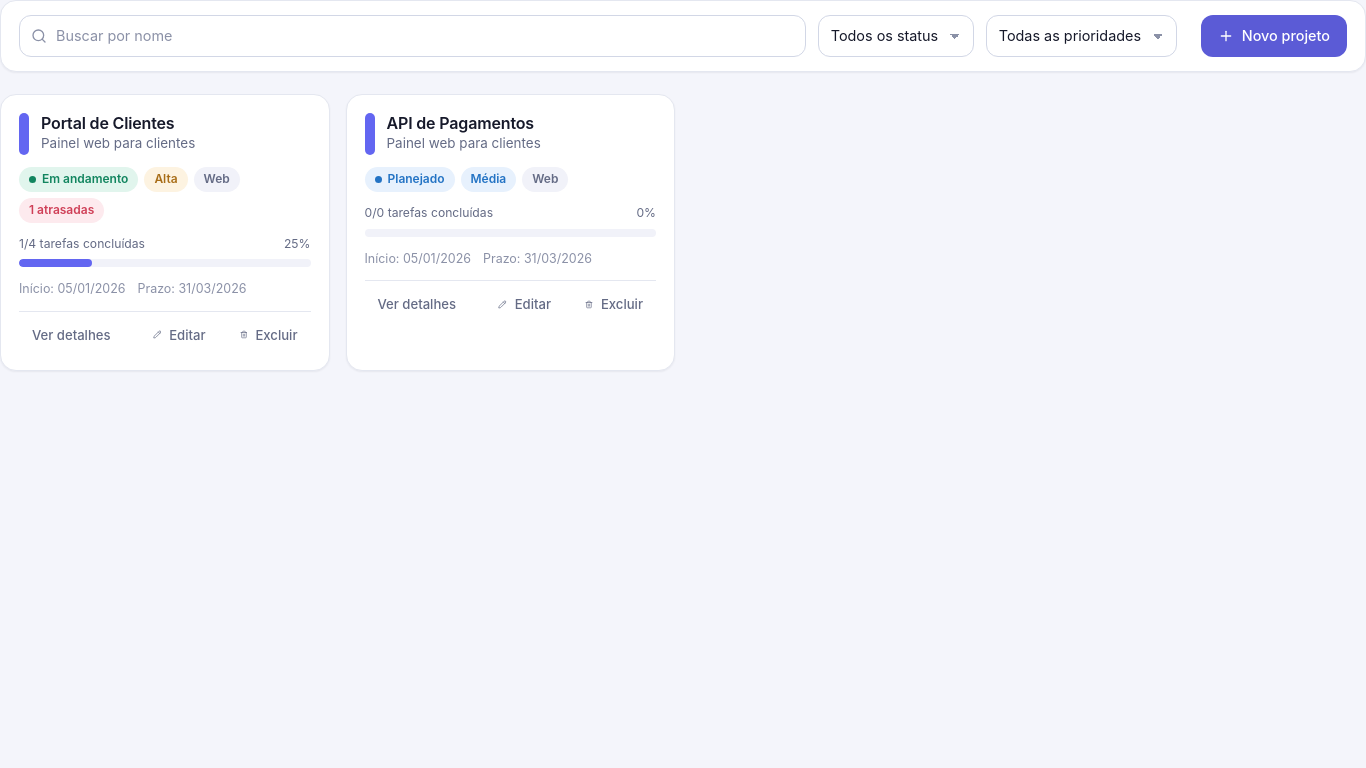
Scenario: ProjectsPage › bloqueia o envio quando o nome está vazio
This screenshot has width=1366, height=768.
Check: the heading "Portal de Clientes" is shown, box [41, 113, 174, 133]
Click the button "Novo projeto".
click(1274, 36)  # box [1201, 15, 1347, 57]
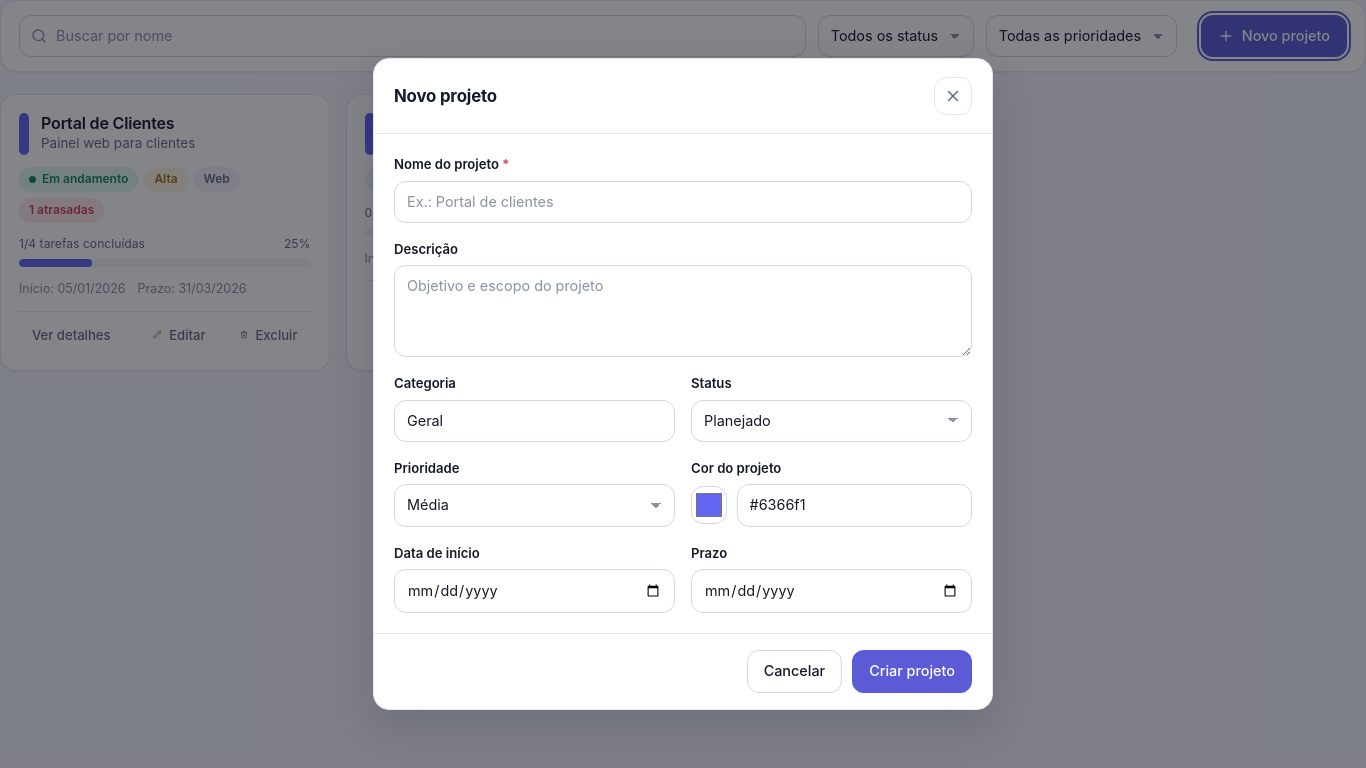
Click the button "Criar projeto".
click(912, 671)  # box [852, 650, 972, 693]
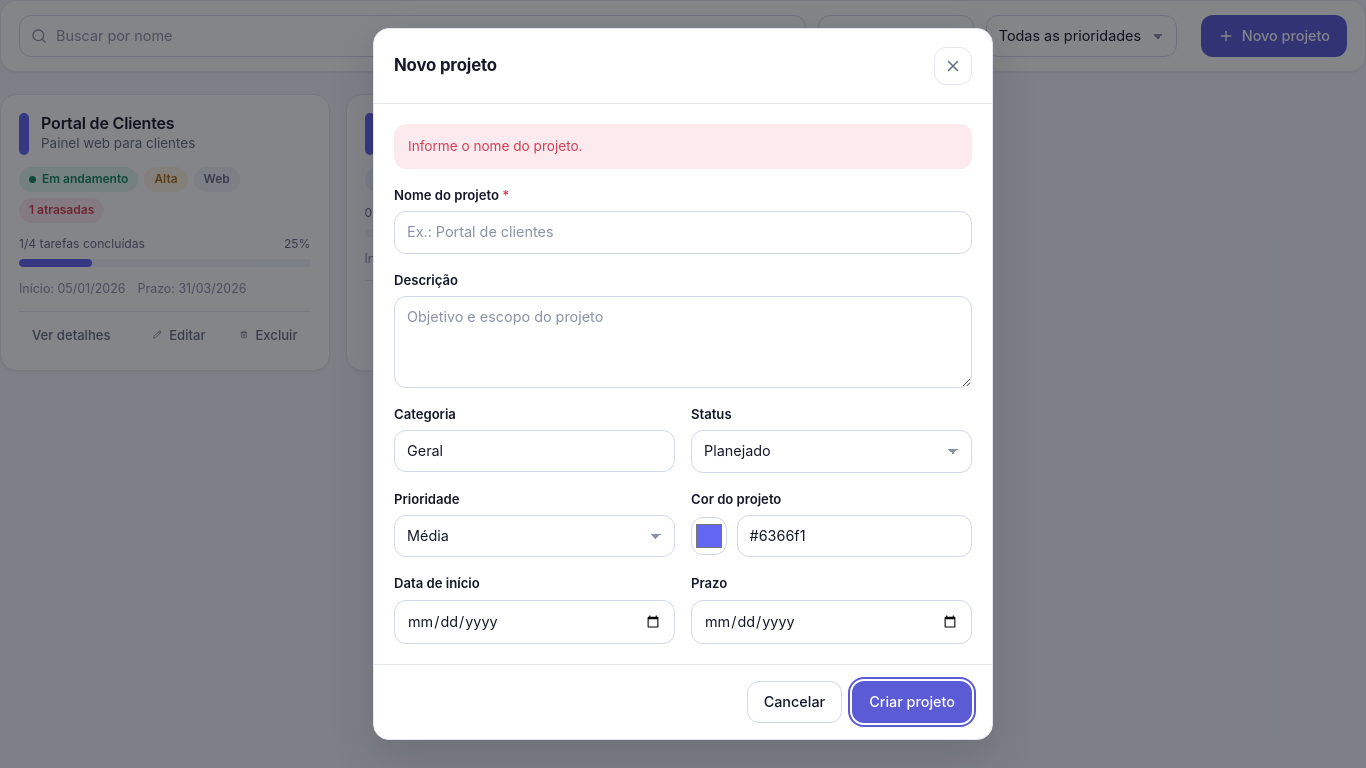
Check: the text "Informe o nome do projeto." is shown, box [394, 124, 972, 169]
